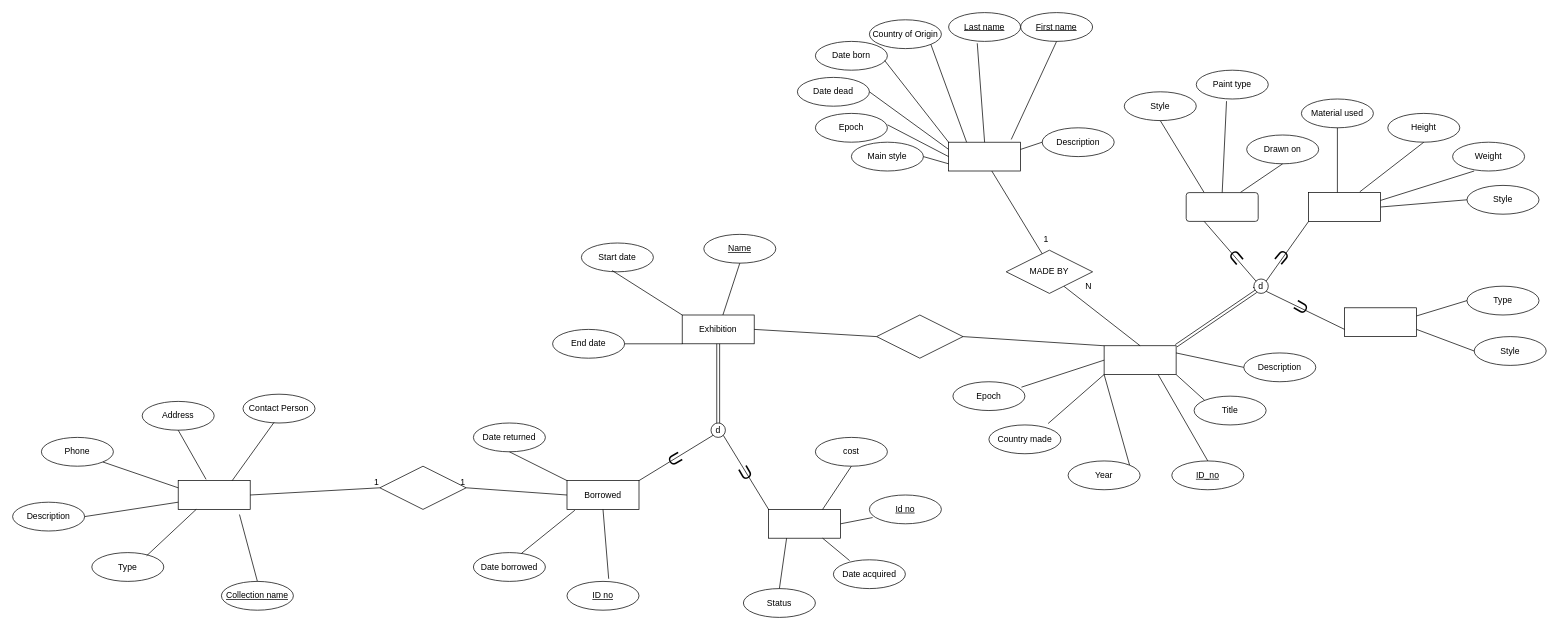
Some shapes in this 1559 by 630 pixel diagram are drawn without their labels. Here are the shapes that lost their labels. From the top down, the centre of each, then its label:
(984,156): Artist
(1221,206): Painting
(1344,206): Sculpture/Statue
(919,336): TAKES PLACE IN
(1380,322): Other
(1139,360): Art object
(213,494): Collection
(422,487): From
(804,523): Permanent
